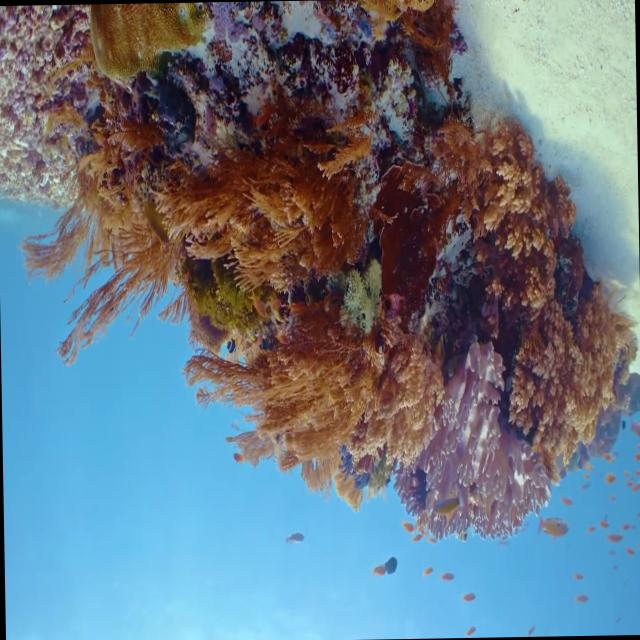fish: (532, 508, 568, 548), (382, 546, 401, 578)
